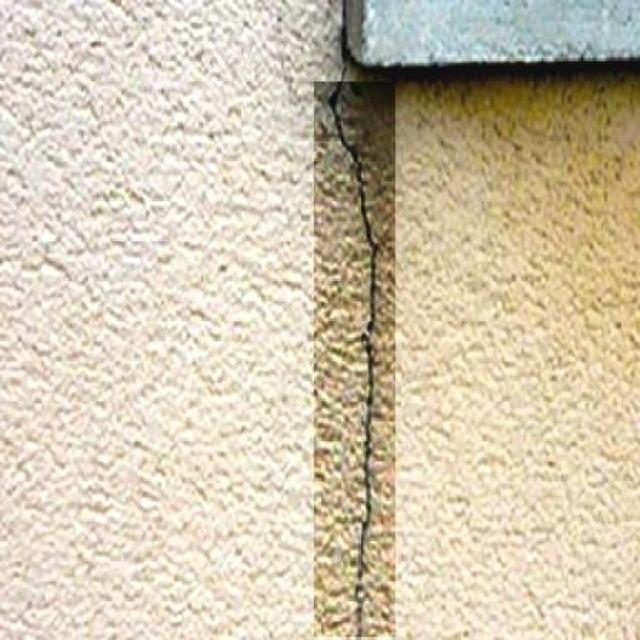Crack: (314, 81, 390, 626)
